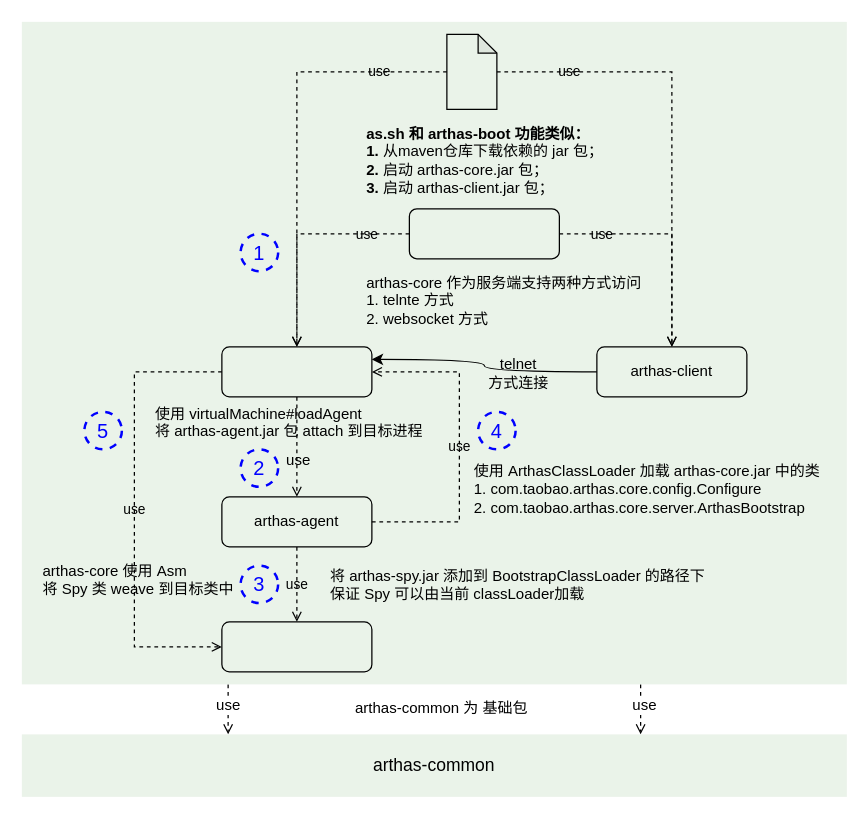
Image size: 868x818. Some labels were removed from this diagram. The centre of each missing label's shape, as x and y in pixels:
arthas-boot: (483,233)
arthas-core: (296,371)
arthas-spy: (296,646)
as.sh: (471,71)
